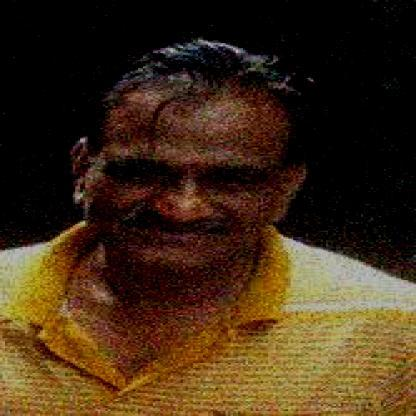without_mask: (90, 133, 288, 274)
